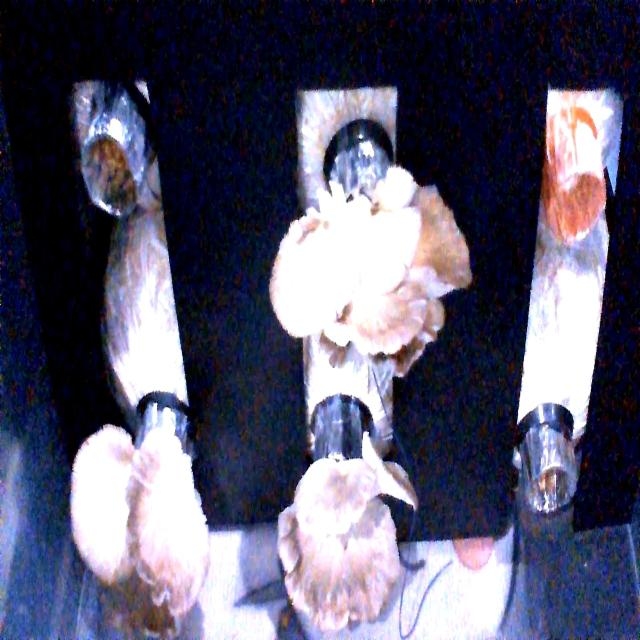big: (279, 192, 457, 351), (71, 450, 201, 591), (278, 470, 403, 614)
nfound: (77, 131, 144, 215), (543, 168, 608, 240), (528, 451, 572, 518)
